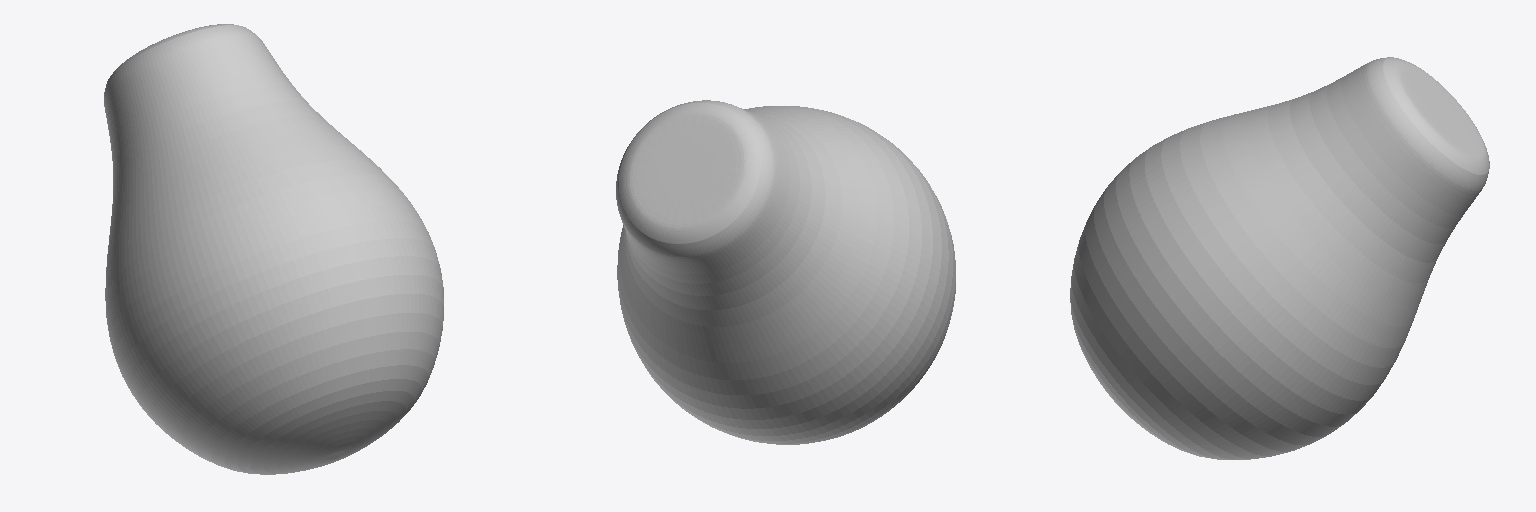
The model's file is lamp_piece3.obj.
3 views of the same model, side by side, from view 1: azimuth 30°, elevation 25°; view 2: azimuth 150°, elevation 25°; view 3: azimuth 270°, elevation 25° (orthographic).
Parts seen in each view (by area): view 1: Cylinder.010; view 2: Cylinder.010; view 3: Cylinder.010.
Part boxes in pixels (bbox=[...]): Cylinder.010: bbox=[104, 24, 443, 474]; Cylinder.010: bbox=[616, 100, 955, 444]; Cylinder.010: bbox=[1070, 57, 1489, 459].
Bounding box in the file's own units: 0.1619 × 0.2 × 0.2012.